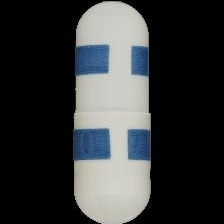50436-7901: (0, 0, 224, 224)
